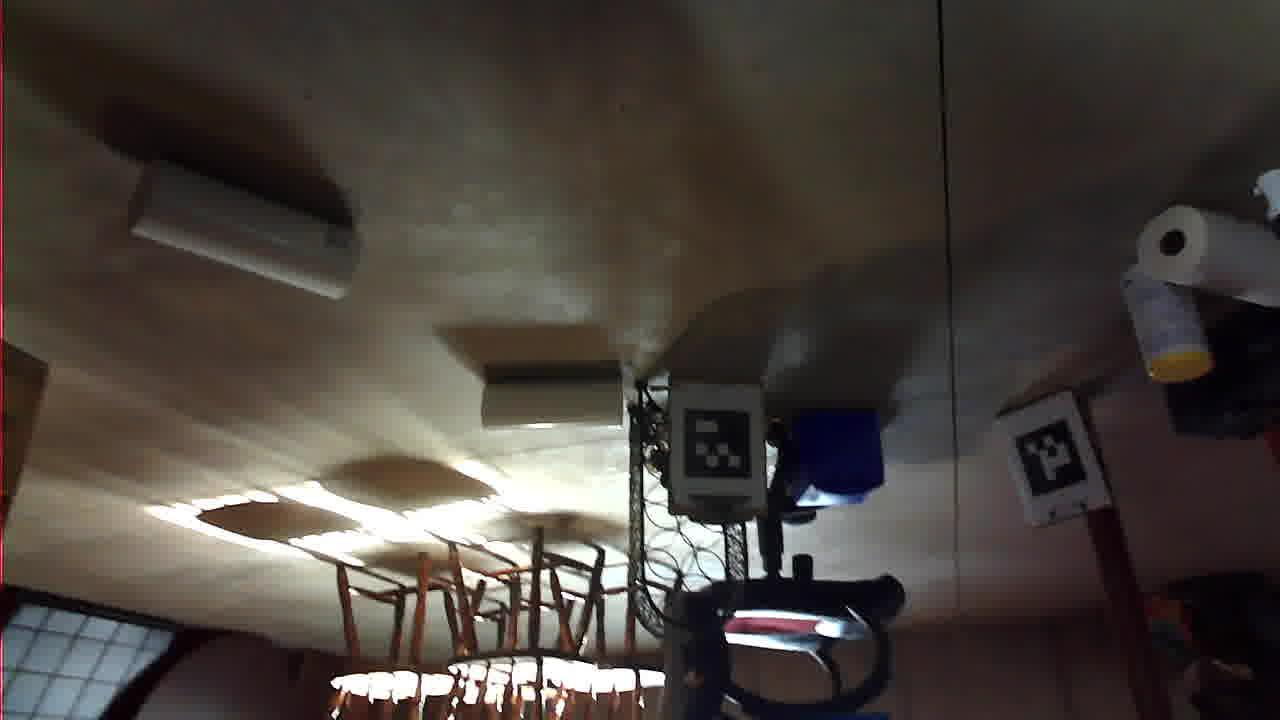coral: (921, 419, 1149, 565), (657, 290, 800, 349)
